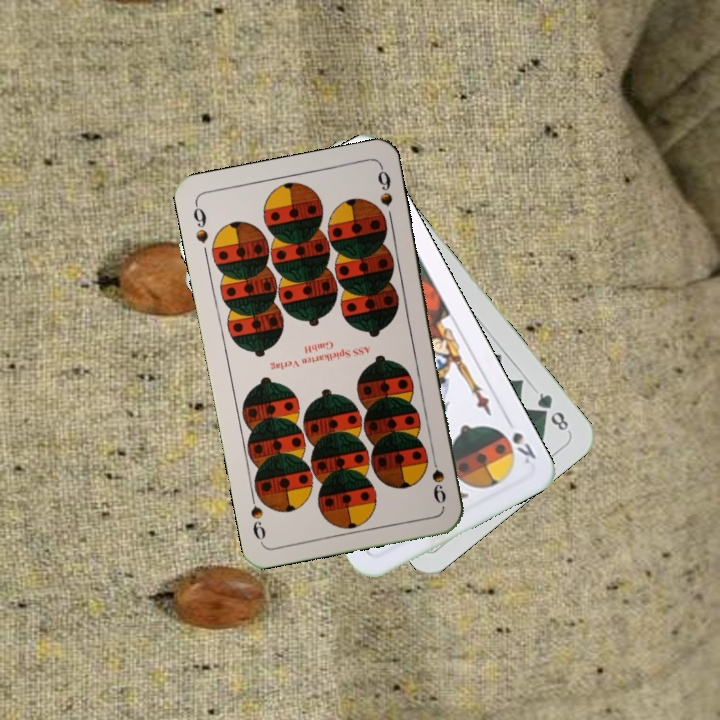G8: (532, 388, 572, 435)
S9: (427, 449, 449, 507), (189, 199, 211, 246)
SK: (508, 427, 539, 467)
